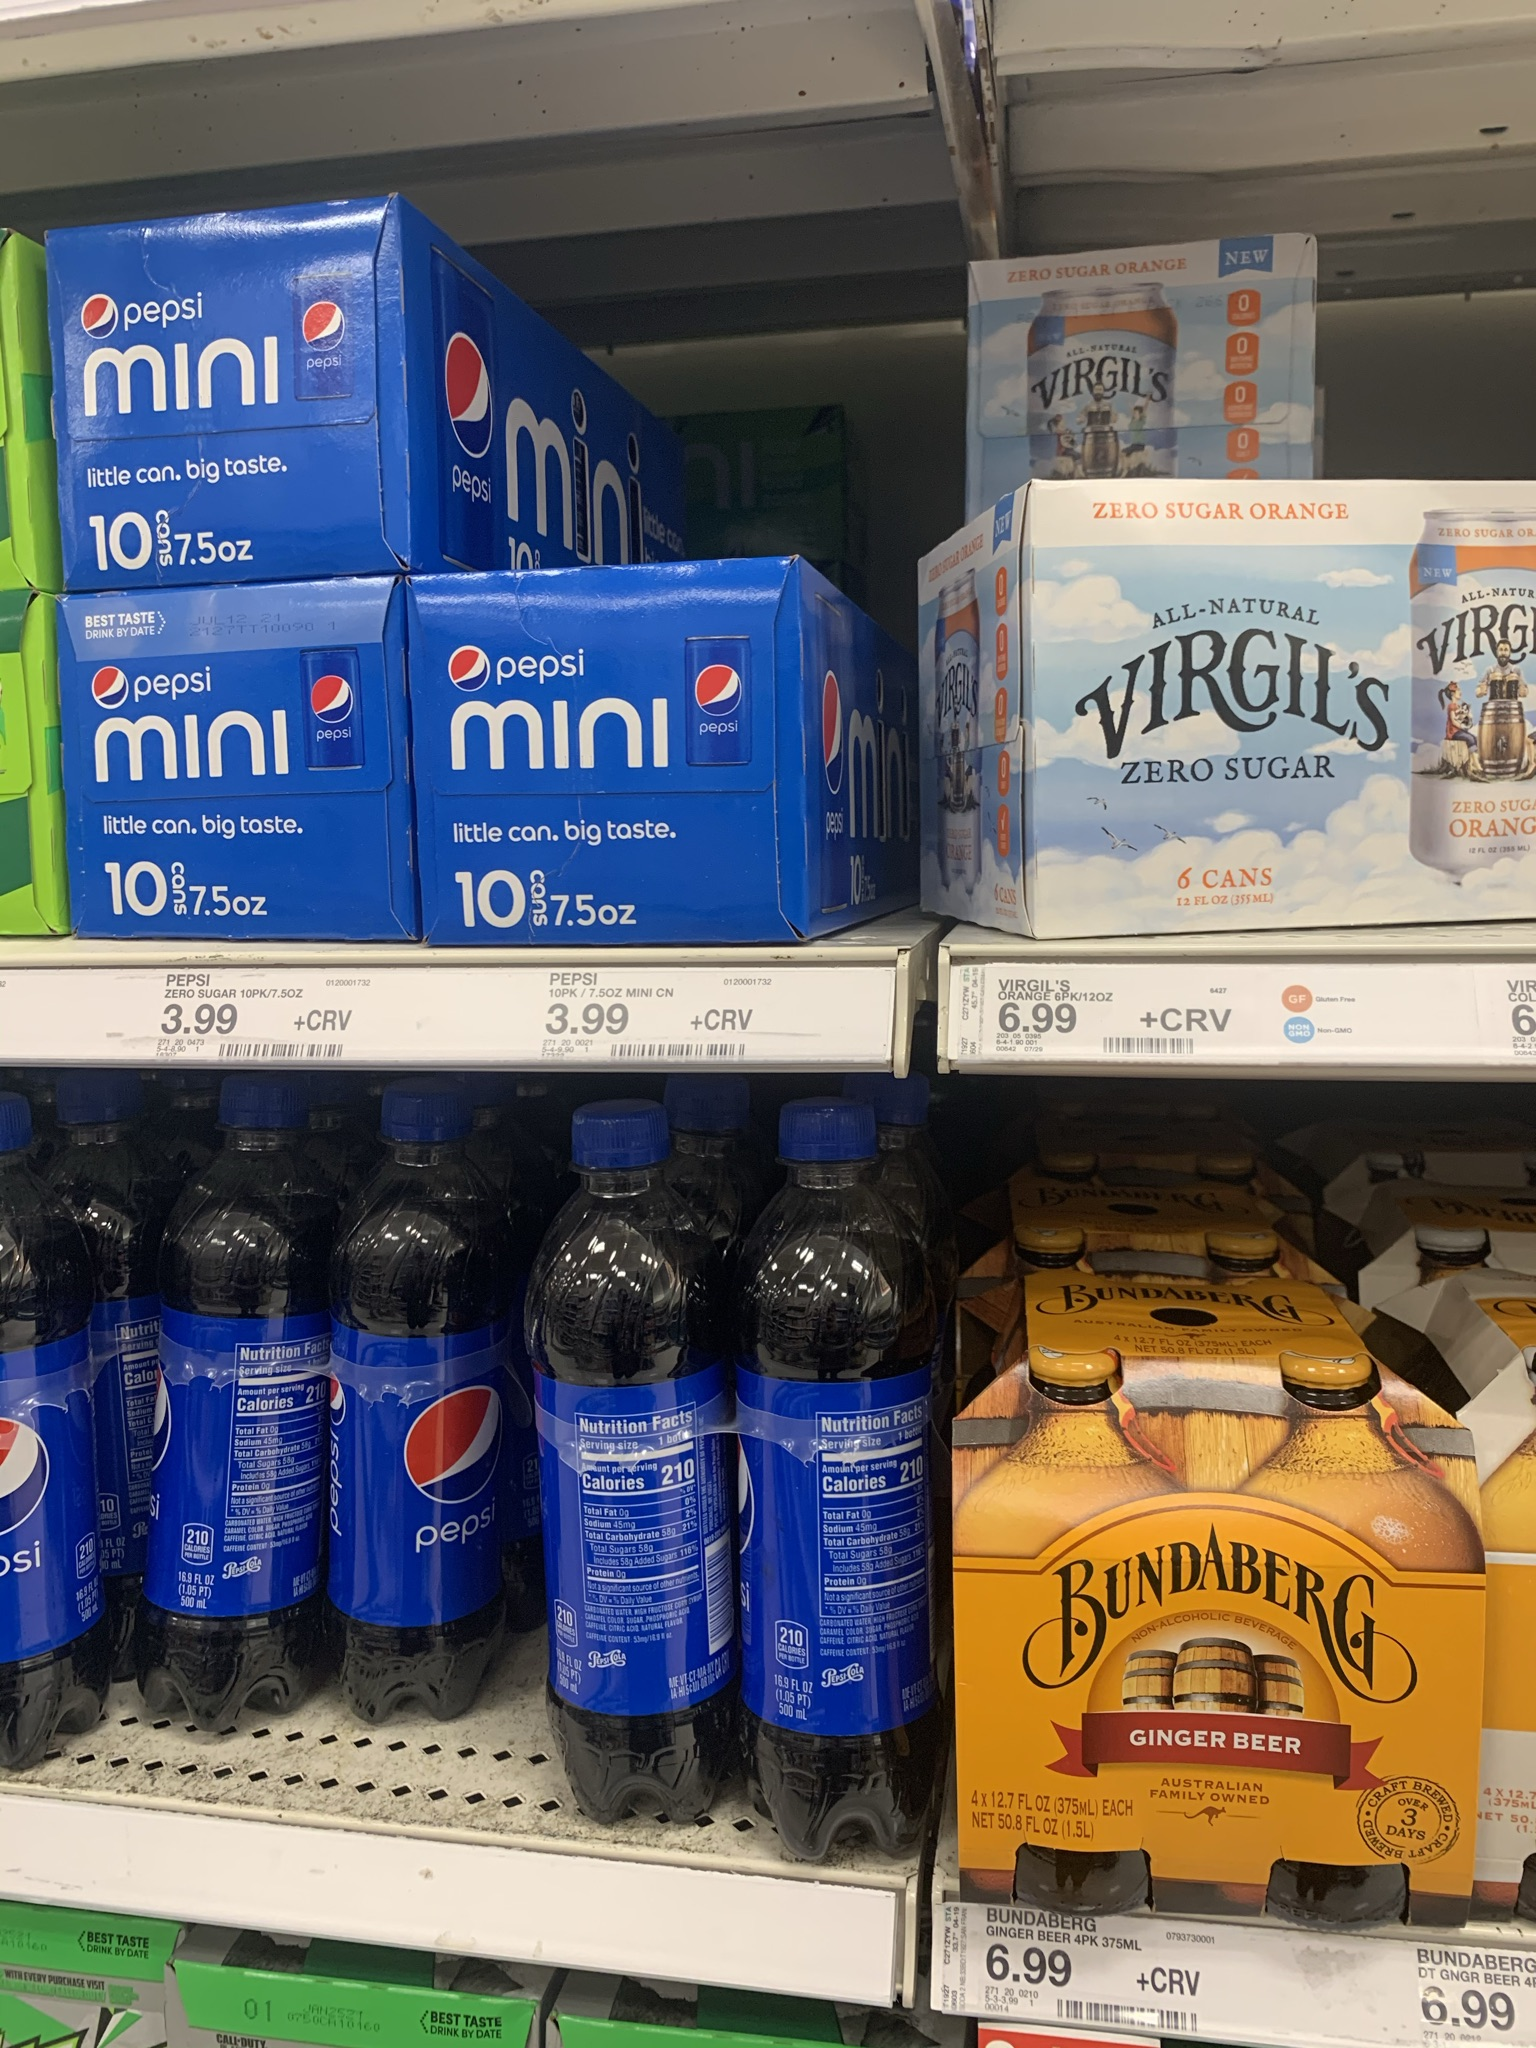Soda: (958, 1340, 1481, 1924), (1028, 481, 1536, 922), (741, 1095, 937, 1866), (407, 572, 799, 950), (529, 1101, 728, 1838), (48, 226, 403, 579), (61, 601, 415, 943), (134, 1079, 318, 1734), (326, 1087, 511, 1722), (965, 258, 1317, 477)
